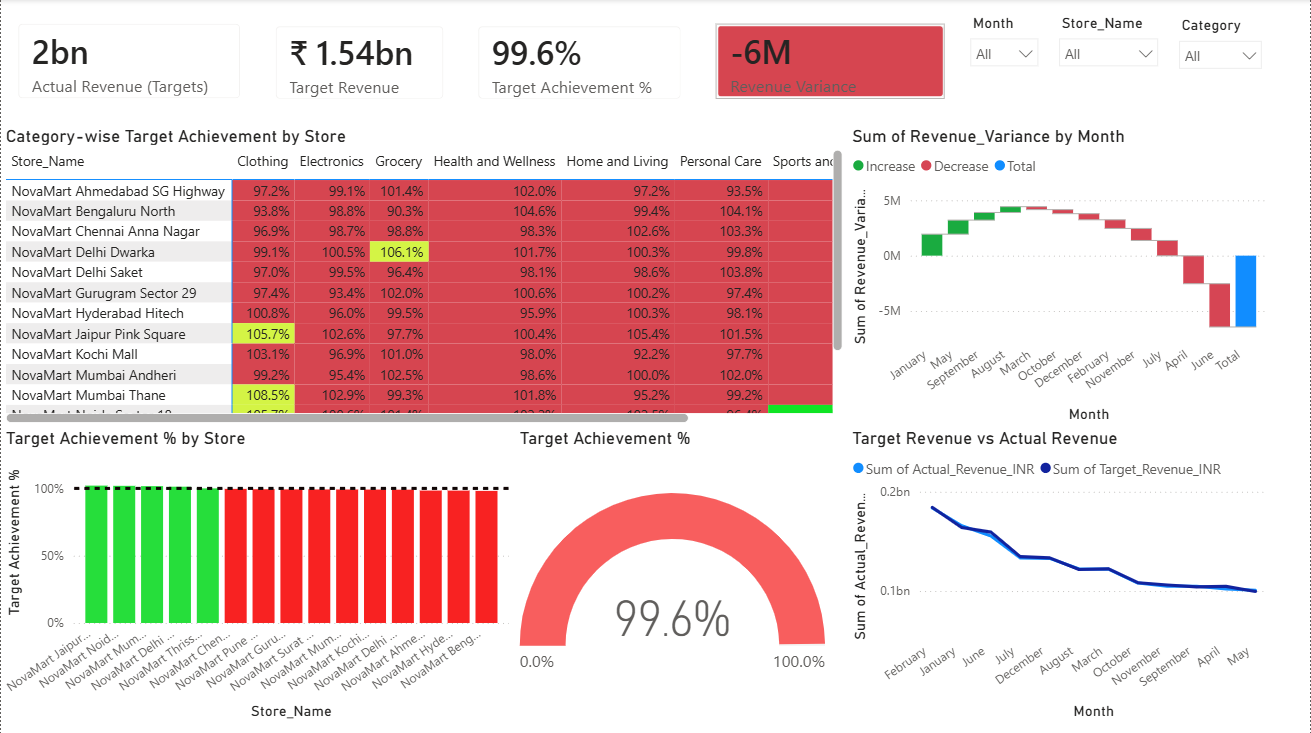

Layout of this report page (visuals, bound fields, positions):
{"tool":"powerbi","page":{"name":"Target vs Actual","canvas":[1280,720],"ordinal":5},"visuals":[{"type":"clusteredColumnChart","title":"Target Achievement % by Store ","fields":{"Category":["Stores.Store_Name"],"Y":["Store Performance Measures.Target Achievement %"]},"box":[0,419.8,502.1,290],"z":0},{"type":"pivotTable","title":"Category-wise Target Achievement by Store ","fields":{"Rows":["Stores.Store_Name"],"Columns":["Monthly_Targets.Category"],"Values":["Store Performance Measures.Target Achievement %"]},"box":[0,123.5,827.9,295.9],"z":1000},{"type":"cardVisual","fields":{"Data":["Store Performance Measures.Target Revenue"]},"box":[251.9,9.8,198.1,105.2],"z":2000},{"type":"cardVisual","fields":{"Data":["Store Performance Measures.Actual Revenue (Targets)"]},"box":[0,7.3,251.9,107.6],"z":3000},{"type":"cardVisual","fields":{"Data":["Store Performance Measures.Target Achievement %"]},"box":[450,9.8,232.3,105.2],"z":4000},{"type":"cardVisual","fields":{"Data":["Store Performance Measures.Revenue Variance"]},"box":[682.3,7.3,258,107.6],"z":5000},{"type":"waterfallChart","fields":{"Category":["Monthly_Targets.Month"],"Y":["Sum(Monthly_Targets.Revenue_Variance)"]},"box":[827.9,123.5,415.8,295.9],"z":6000},{"type":"gauge","fields":{"Y":["Store Performance Measures.Target Achievement %"]},"box":[502.1,419.8,308.8,290],"z":7000},{"type":"slicer","fields":{"Values":["Stores.Store_Name"]},"box":[1024.7,9.8,117.4,74.6],"z":8000},{"type":"slicer","fields":{"Values":["Monthly_Targets.Month"]},"box":[937.9,9.8,86.8,70.9],"z":9000},{"type":"slicer","fields":{"Values":["Monthly_Targets.Category"]},"box":[1142.1,12.2,101.5,66],"z":10000},{"type":"lineChart","title":"Target Revenue vs Actual Revenue","fields":{"Category":["Monthly_Targets.Month"],"Y":["Sum(Monthly_Targets.Actual_Revenue_INR)","Sum(Monthly_Targets.Target_Revenue_INR)"]},"box":[828,420,416,290],"z":10001}]}

Visuals, with their boxes in screenshot pixels (x1, y1, x2, y2), scaled from the page's 1280x720 canvas onto the 1311x733 screenshot:
"Target Achievement % by Store " clusteredColumnChart: (0,427,514,723)
"Category-wise Target Achievement by Store " pivotTable: (0,126,848,427)
cardVisual - Store Performance Measures.Target Revenue: (258,10,461,117)
cardVisual - Store Performance Measures.Actual Revenue (Targets): (0,7,258,117)
cardVisual - Store Performance Measures.Target Achievement %: (461,10,699,117)
cardVisual - Store Performance Measures.Revenue Variance: (699,7,963,117)
waterfallChart - Monthly_Targets.Month x Sum(Monthly_Targets.Revenue_Variance): (848,126,1274,427)
gauge - Store Performance Measures.Target Achievement %: (514,427,831,723)
slicer - Stores.Store_Name: (1050,10,1170,86)
slicer - Monthly_Targets.Month: (961,10,1050,82)
slicer - Monthly_Targets.Category: (1170,12,1274,80)
"Target Revenue vs Actual Revenue" lineChart: (848,428,1274,723)
